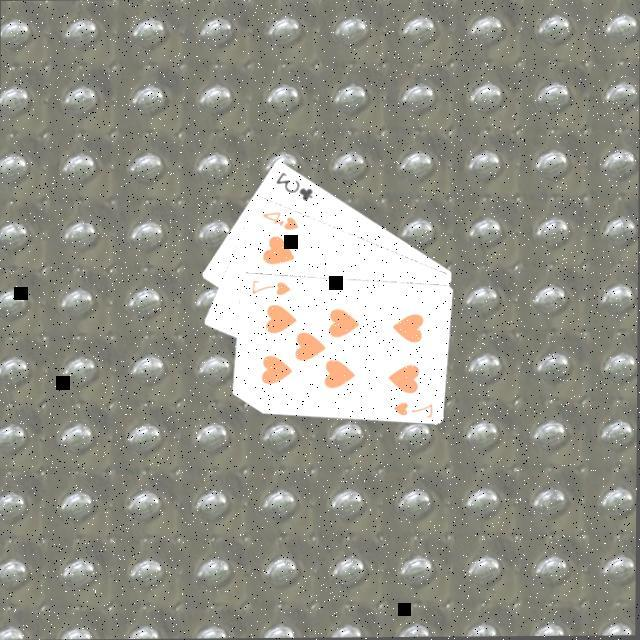3C: (273, 166, 317, 202)
4H: (260, 206, 302, 232)
7H: (249, 274, 295, 296), (392, 396, 436, 418)
